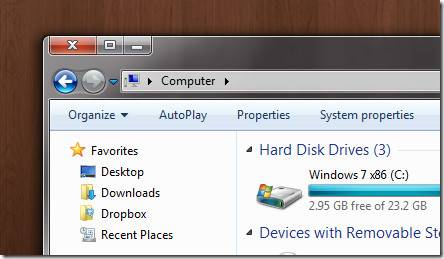close: (49, 35, 96, 54)
